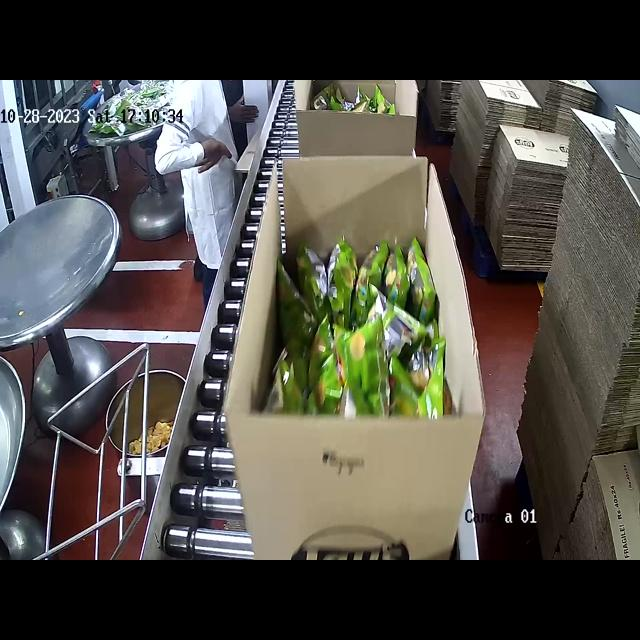yogurt: (271, 234, 447, 418)
